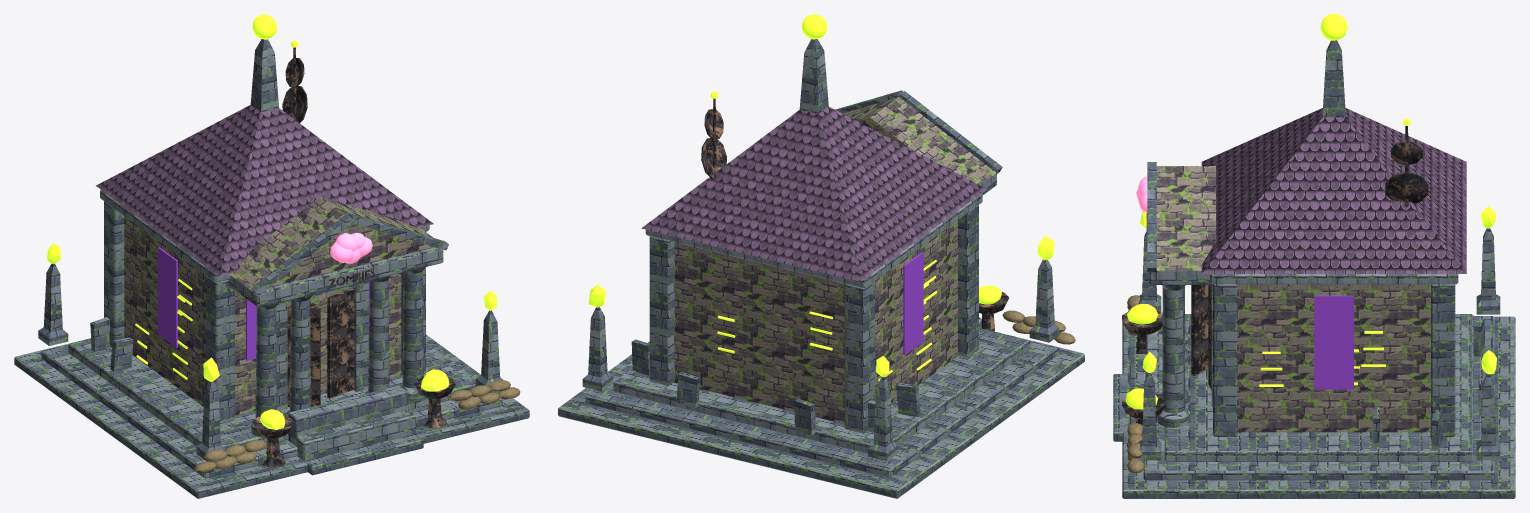
The model's file is zombie_tomb.glb.
3 views of the same model, side by side, from view 1: azimuth 30°, elevation 25°; view 2: azimuth 150°, elevation 25°; view 3: azimuth 270°, elevation 25° (orthographic). The views are drawn at different scales.
Parts seen in each view (by area): view 1: Tomb; view 2: Tomb; view 3: Tomb.
Boxes of the visible parts, left/top/right/bottom form: Tomb: left=14, top=14, right=529, bottom=498; Tomb: left=558, top=14, right=1084, bottom=498; Tomb: left=1113, top=14, right=1515, bottom=498.
Bounding box in the file's own units: 13.6 × 14.51 × 13.3.
Materials: 8 (5 with a texture image).
